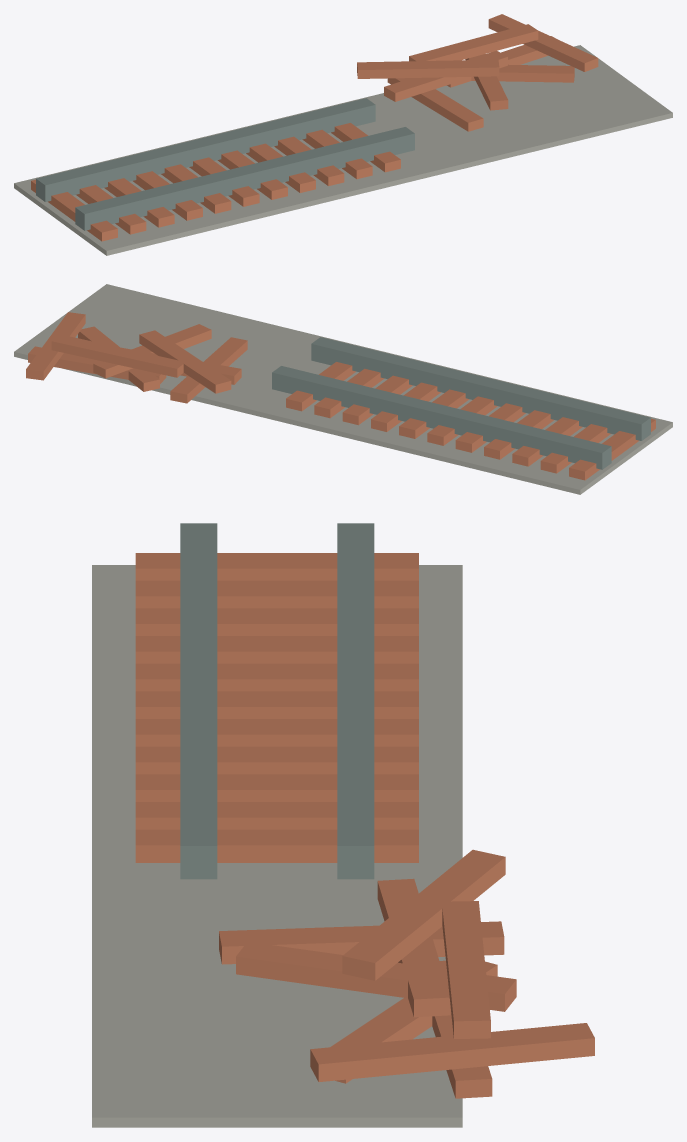
File: SM_ViaRota_v1_Traviesas_LOD1.fbx
3 views of the same model, one above another, from view 1: azimuth 30°, elevation 25°; view 2: azimuth 150°, elevation 25°; view 3: azimuth 270°, elevation 25° (orthographic). The views are drawn at different scales.
Visible parts, largest first — view 1: SM_aqui_paso_algo_v6_LOD1; view 2: SM_aqui_paso_algo_v6_LOD1; view 3: SM_aqui_paso_algo_v6_LOD1.
Part boxes in pixels (x1,y1,x2,y2): SM_aqui_paso_algo_v6_LOD1: (14,14,672,255); SM_aqui_paso_algo_v6_LOD1: (14,284,672,494); SM_aqui_paso_algo_v6_LOD1: (92,523,594,1127).
Size of the model in its own units: 12 by 0.64 by 4.62.
